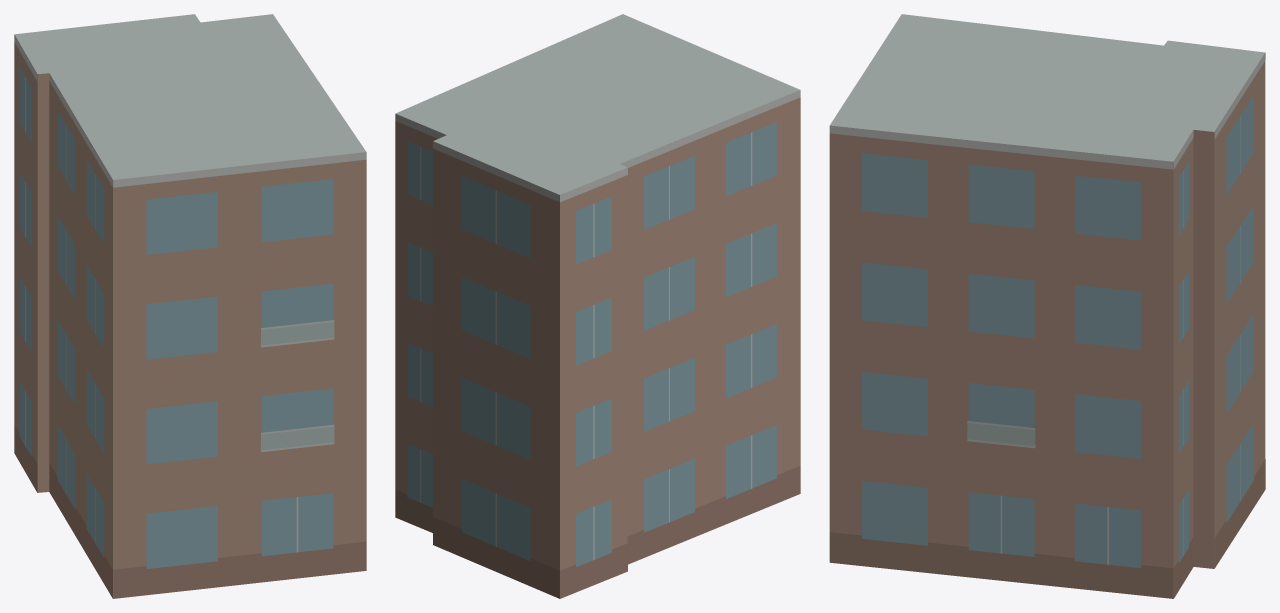
File: survey-upis-32489423.glb
3 renders of one model, left to right at view 1: azimuth 30°, elevation 25°; view 2: azimuth 150°, elevation 25°; view 3: azimuth 270°, elevation 25°, orthographic. The views are drawn at different scales.
Visible parts, largest first — view 1: survey-upis-32489423.tmp; view 2: survey-upis-32489423.tmp; view 3: survey-upis-32489423.tmp.
Part boxes in pixels (x1,y1,x2,y2): survey-upis-32489423.tmp: (14, 14, 366, 598); survey-upis-32489423.tmp: (395, 14, 800, 598); survey-upis-32489423.tmp: (829, 14, 1265, 598).
Bounding box in the file's own units: 9.8 × 13.5 × 12.21.
